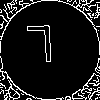L: (25, 25, 55, 72)
